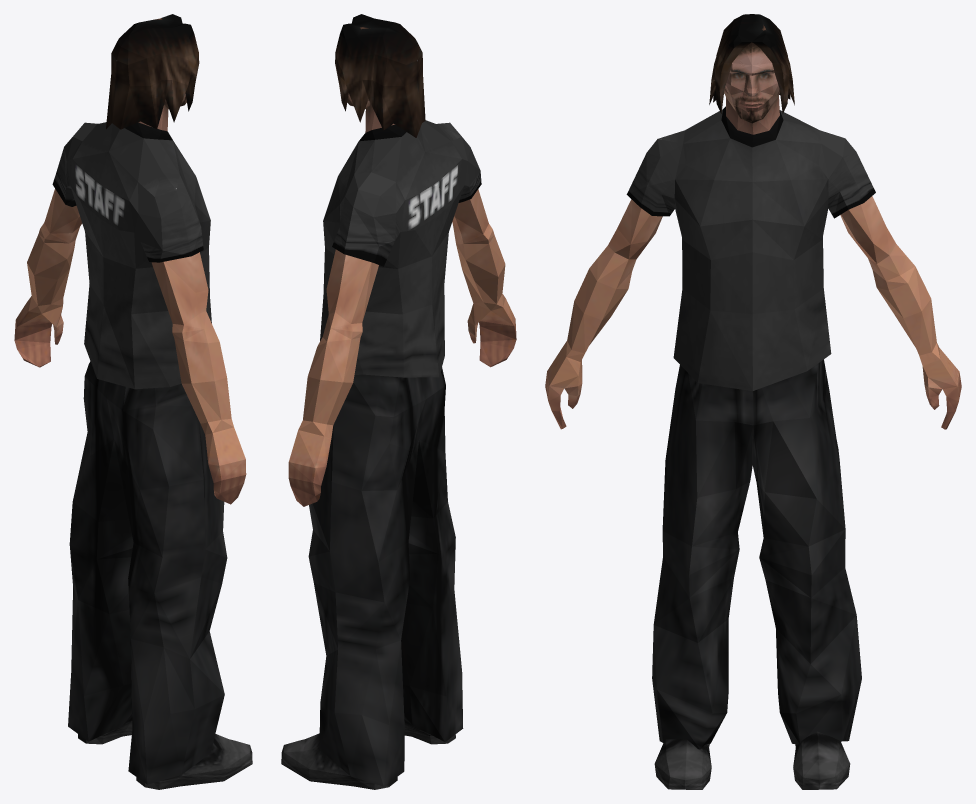
File: wmyclot.obj
3 renders of one model, left to right at view 1: azimuth 30°, elevation 25°; view 2: azimuth 150°, elevation 25°; view 3: azimuth 270°, elevation 25°, orthographic. The views are drawn at different scales.
Visible parts, largest first — view 1: _Pelvis; view 2: _Pelvis; view 3: _Pelvis.
Boxes of the visible parts, x1,y1,x2,y2 form: _Pelvis: [14, 14, 252, 789]; _Pelvis: [281, 14, 516, 789]; _Pelvis: [545, 14, 961, 789].
Bounding box in the file's own units: 0.3262 × 1.84 × 0.9331.
Materials: 1 (1 with a texture image).
